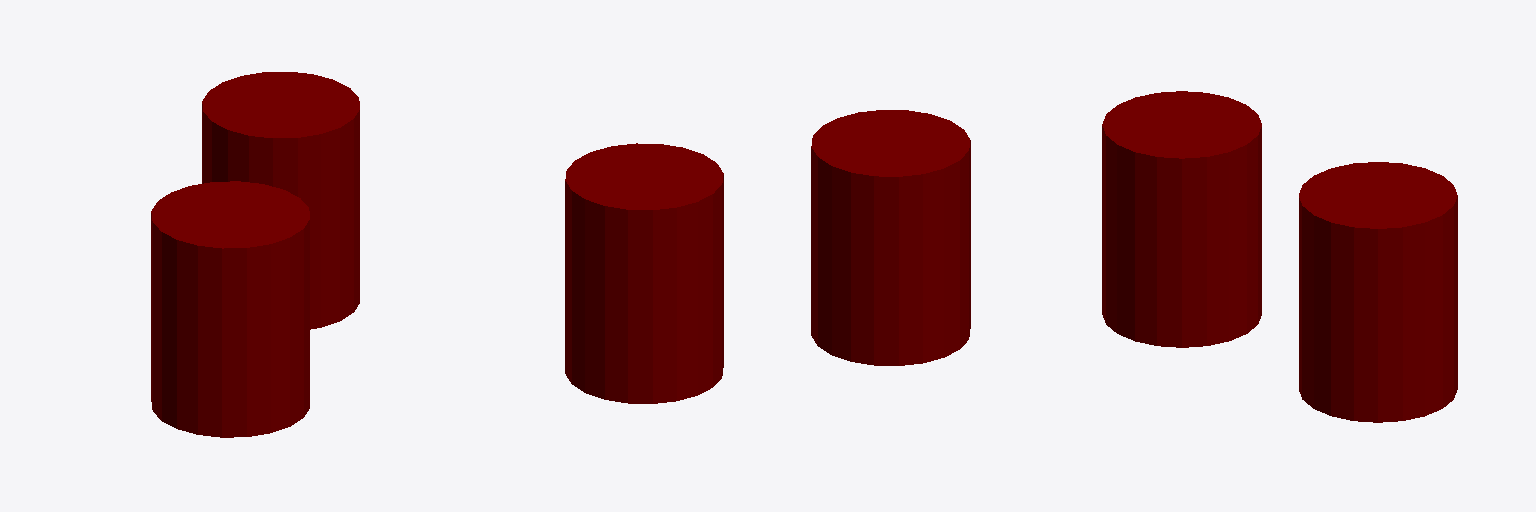
The model's file is trackhooks2.obj.
3 renders of one model, left to right at view 1: azimuth 30°, elevation 25°; view 2: azimuth 150°, elevation 25°; view 3: azimuth 270°, elevation 25°, orthographic.
Parts seen in each view (by area): view 1: pCylinder2, pCylinder1; view 2: pCylinder1, pCylinder2; view 3: pCylinder1, pCylinder2.
Boxes of the visible parts, box(x1,y1,x2,y2) form: pCylinder2: box(151, 181, 309, 437); pCylinder1: box(202, 72, 359, 329); pCylinder1: box(565, 143, 723, 403); pCylinder2: box(811, 110, 970, 365); pCylinder1: box(1299, 162, 1457, 422); pCylinder2: box(1102, 91, 1261, 347).
Size of the model in its own units: 1.99 by 1.28 by 2.14.